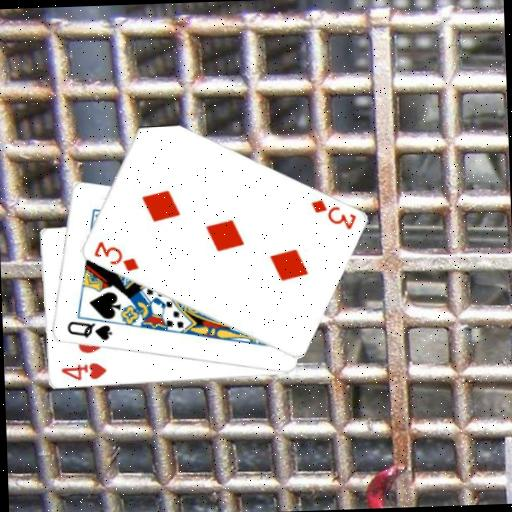3D: (89, 236, 140, 274), (307, 195, 358, 232)
4H: (58, 359, 108, 383)
QS: (63, 317, 114, 344)
